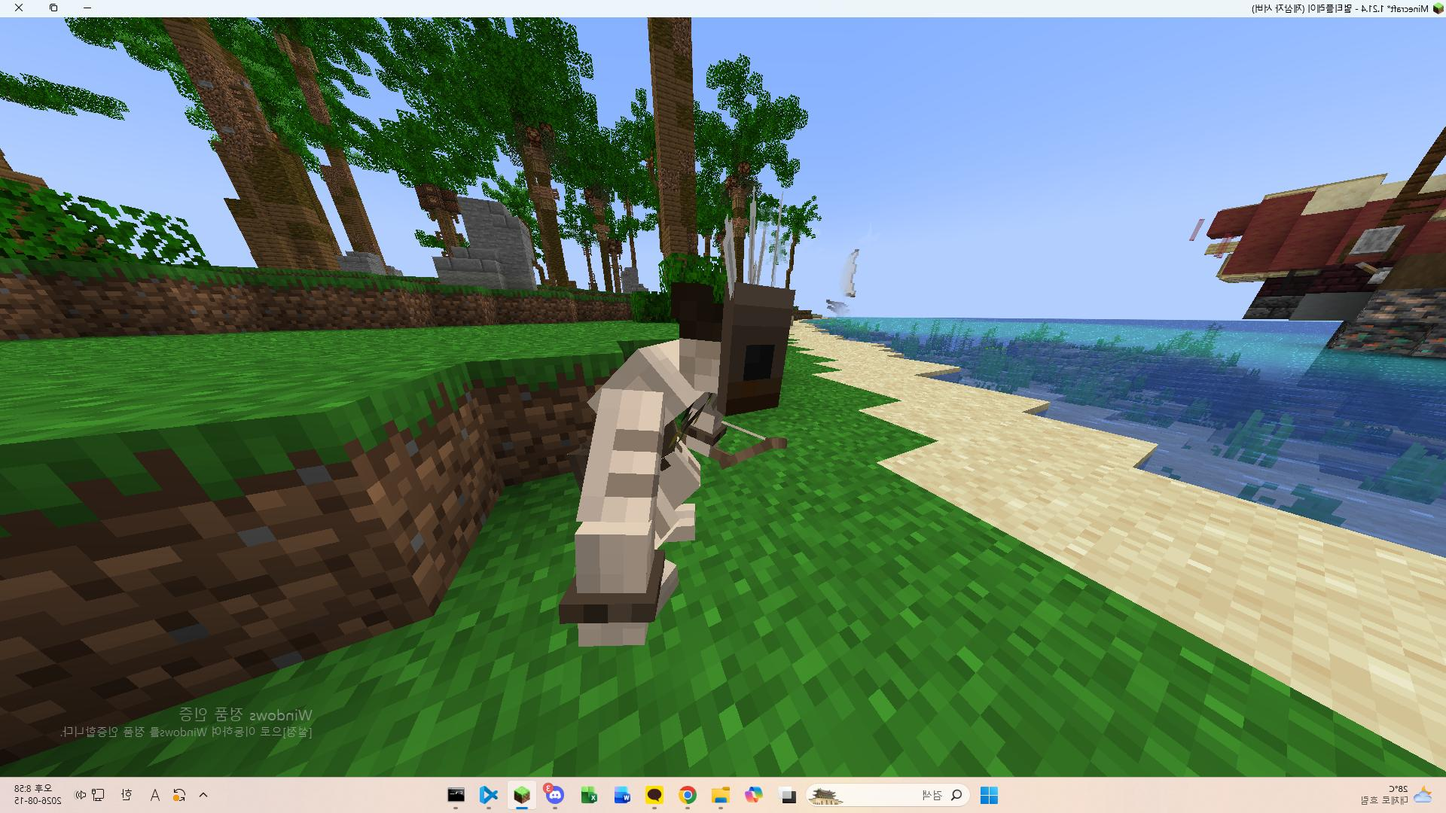bow_indian: (495, 197, 847, 661)
